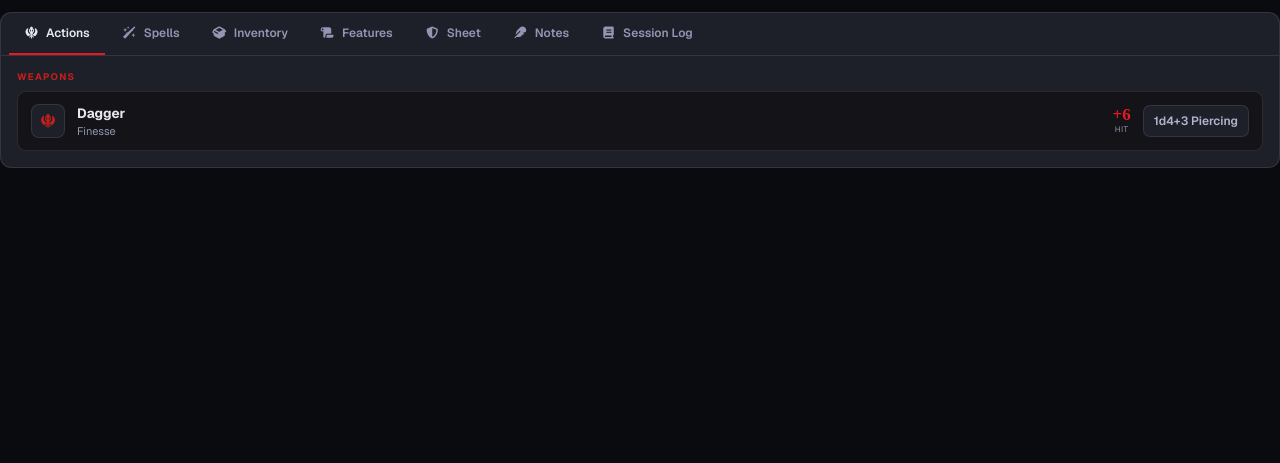
ContentTabs › filters inventory to weapons only via the Weapons chip
Click the tab "Inventory" at (250, 34), box x1=197 y1=13 x2=303 y2=55
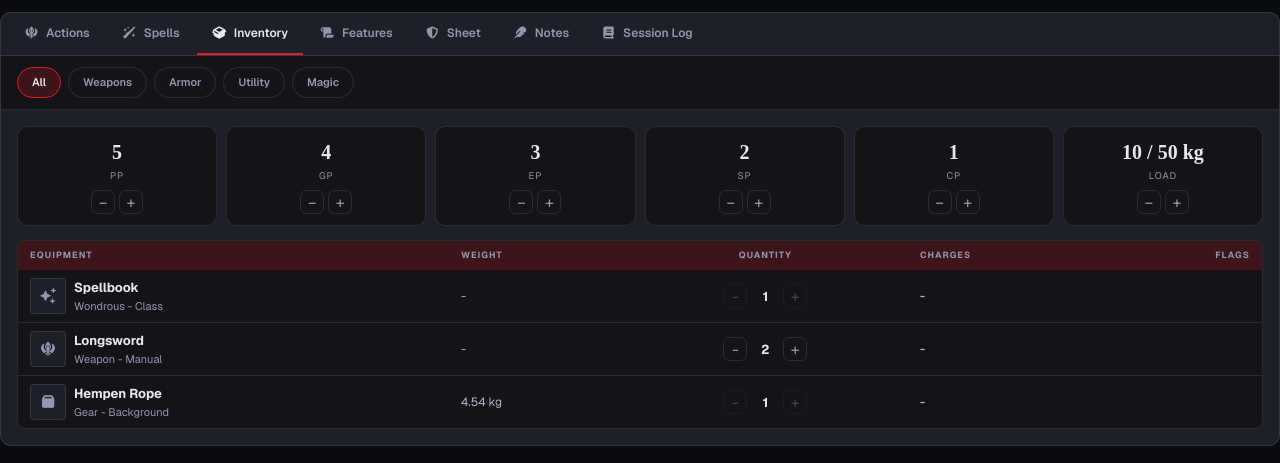
expect the column heading "Equipment" is shown: met, box x1=18 y1=241 x2=449 y2=270
expect the column heading "Weight" is shown: met, box x1=449 y1=241 x2=623 y2=270
expect the column heading "Quantity" is shown: met, box x1=623 y1=241 x2=908 y2=270
Click the button "Weapons" at (108, 82), box x1=68 y1=67 x2=147 y2=98
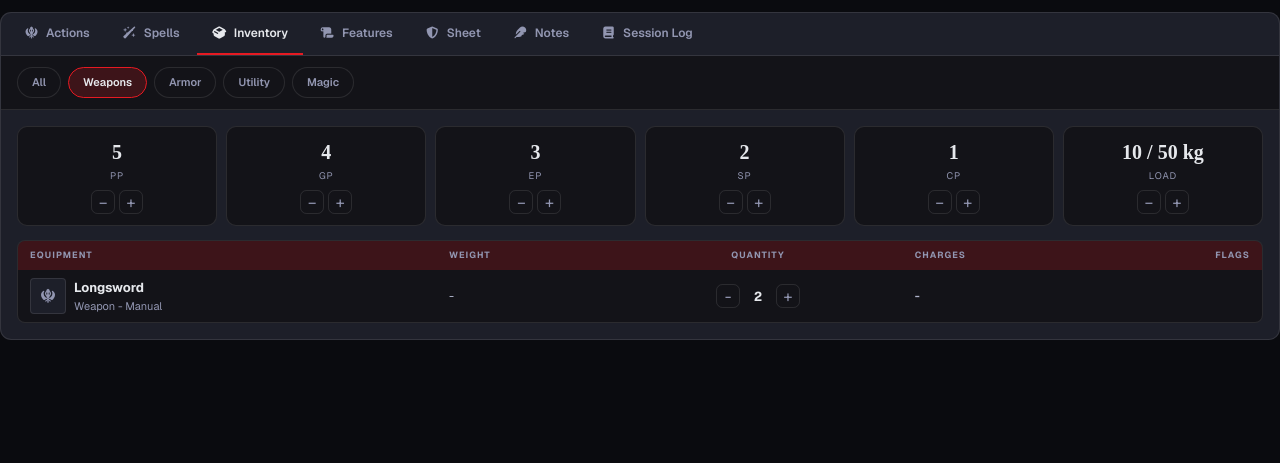
expect the text "Longsword" is shown: met, box x1=74 y1=279 x2=144 y2=296
expect the button "Spellbook" is gone: met
expect the button "Hempen Rope" is gone: met
